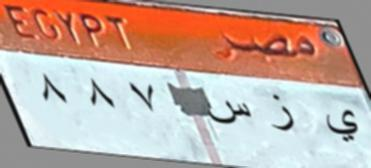7: (125, 76, 160, 123)
8: (38, 69, 72, 114), (84, 76, 116, 114)
seen: (205, 92, 252, 134)
yaa: (322, 101, 362, 148)
zay: (264, 88, 300, 142)
